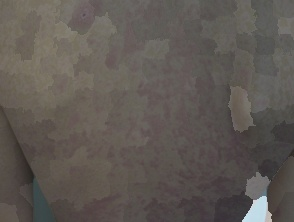SJS-TEN: (52, 0, 277, 222)
